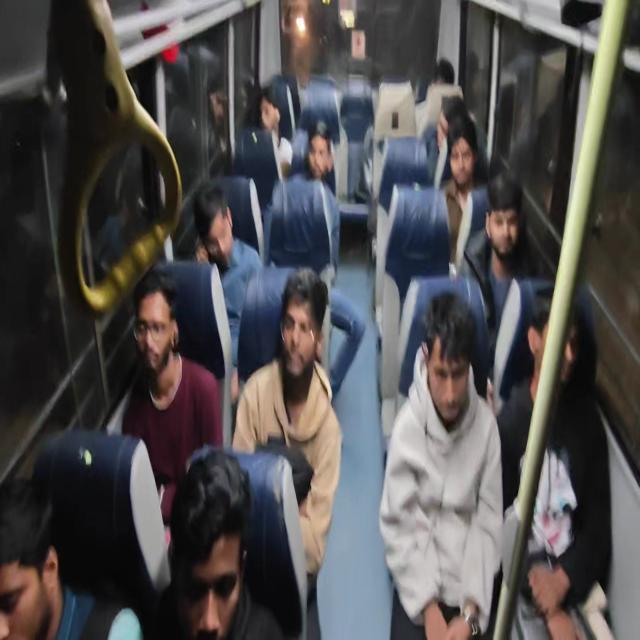person: (164, 435, 256, 640), (1, 472, 75, 640), (525, 284, 591, 412), (428, 292, 483, 443), (133, 268, 183, 387), (282, 270, 324, 383), (479, 171, 522, 262), (193, 188, 239, 272), (444, 124, 484, 197), (251, 90, 292, 140), (304, 127, 332, 183), (422, 56, 458, 99), (436, 92, 469, 124)
